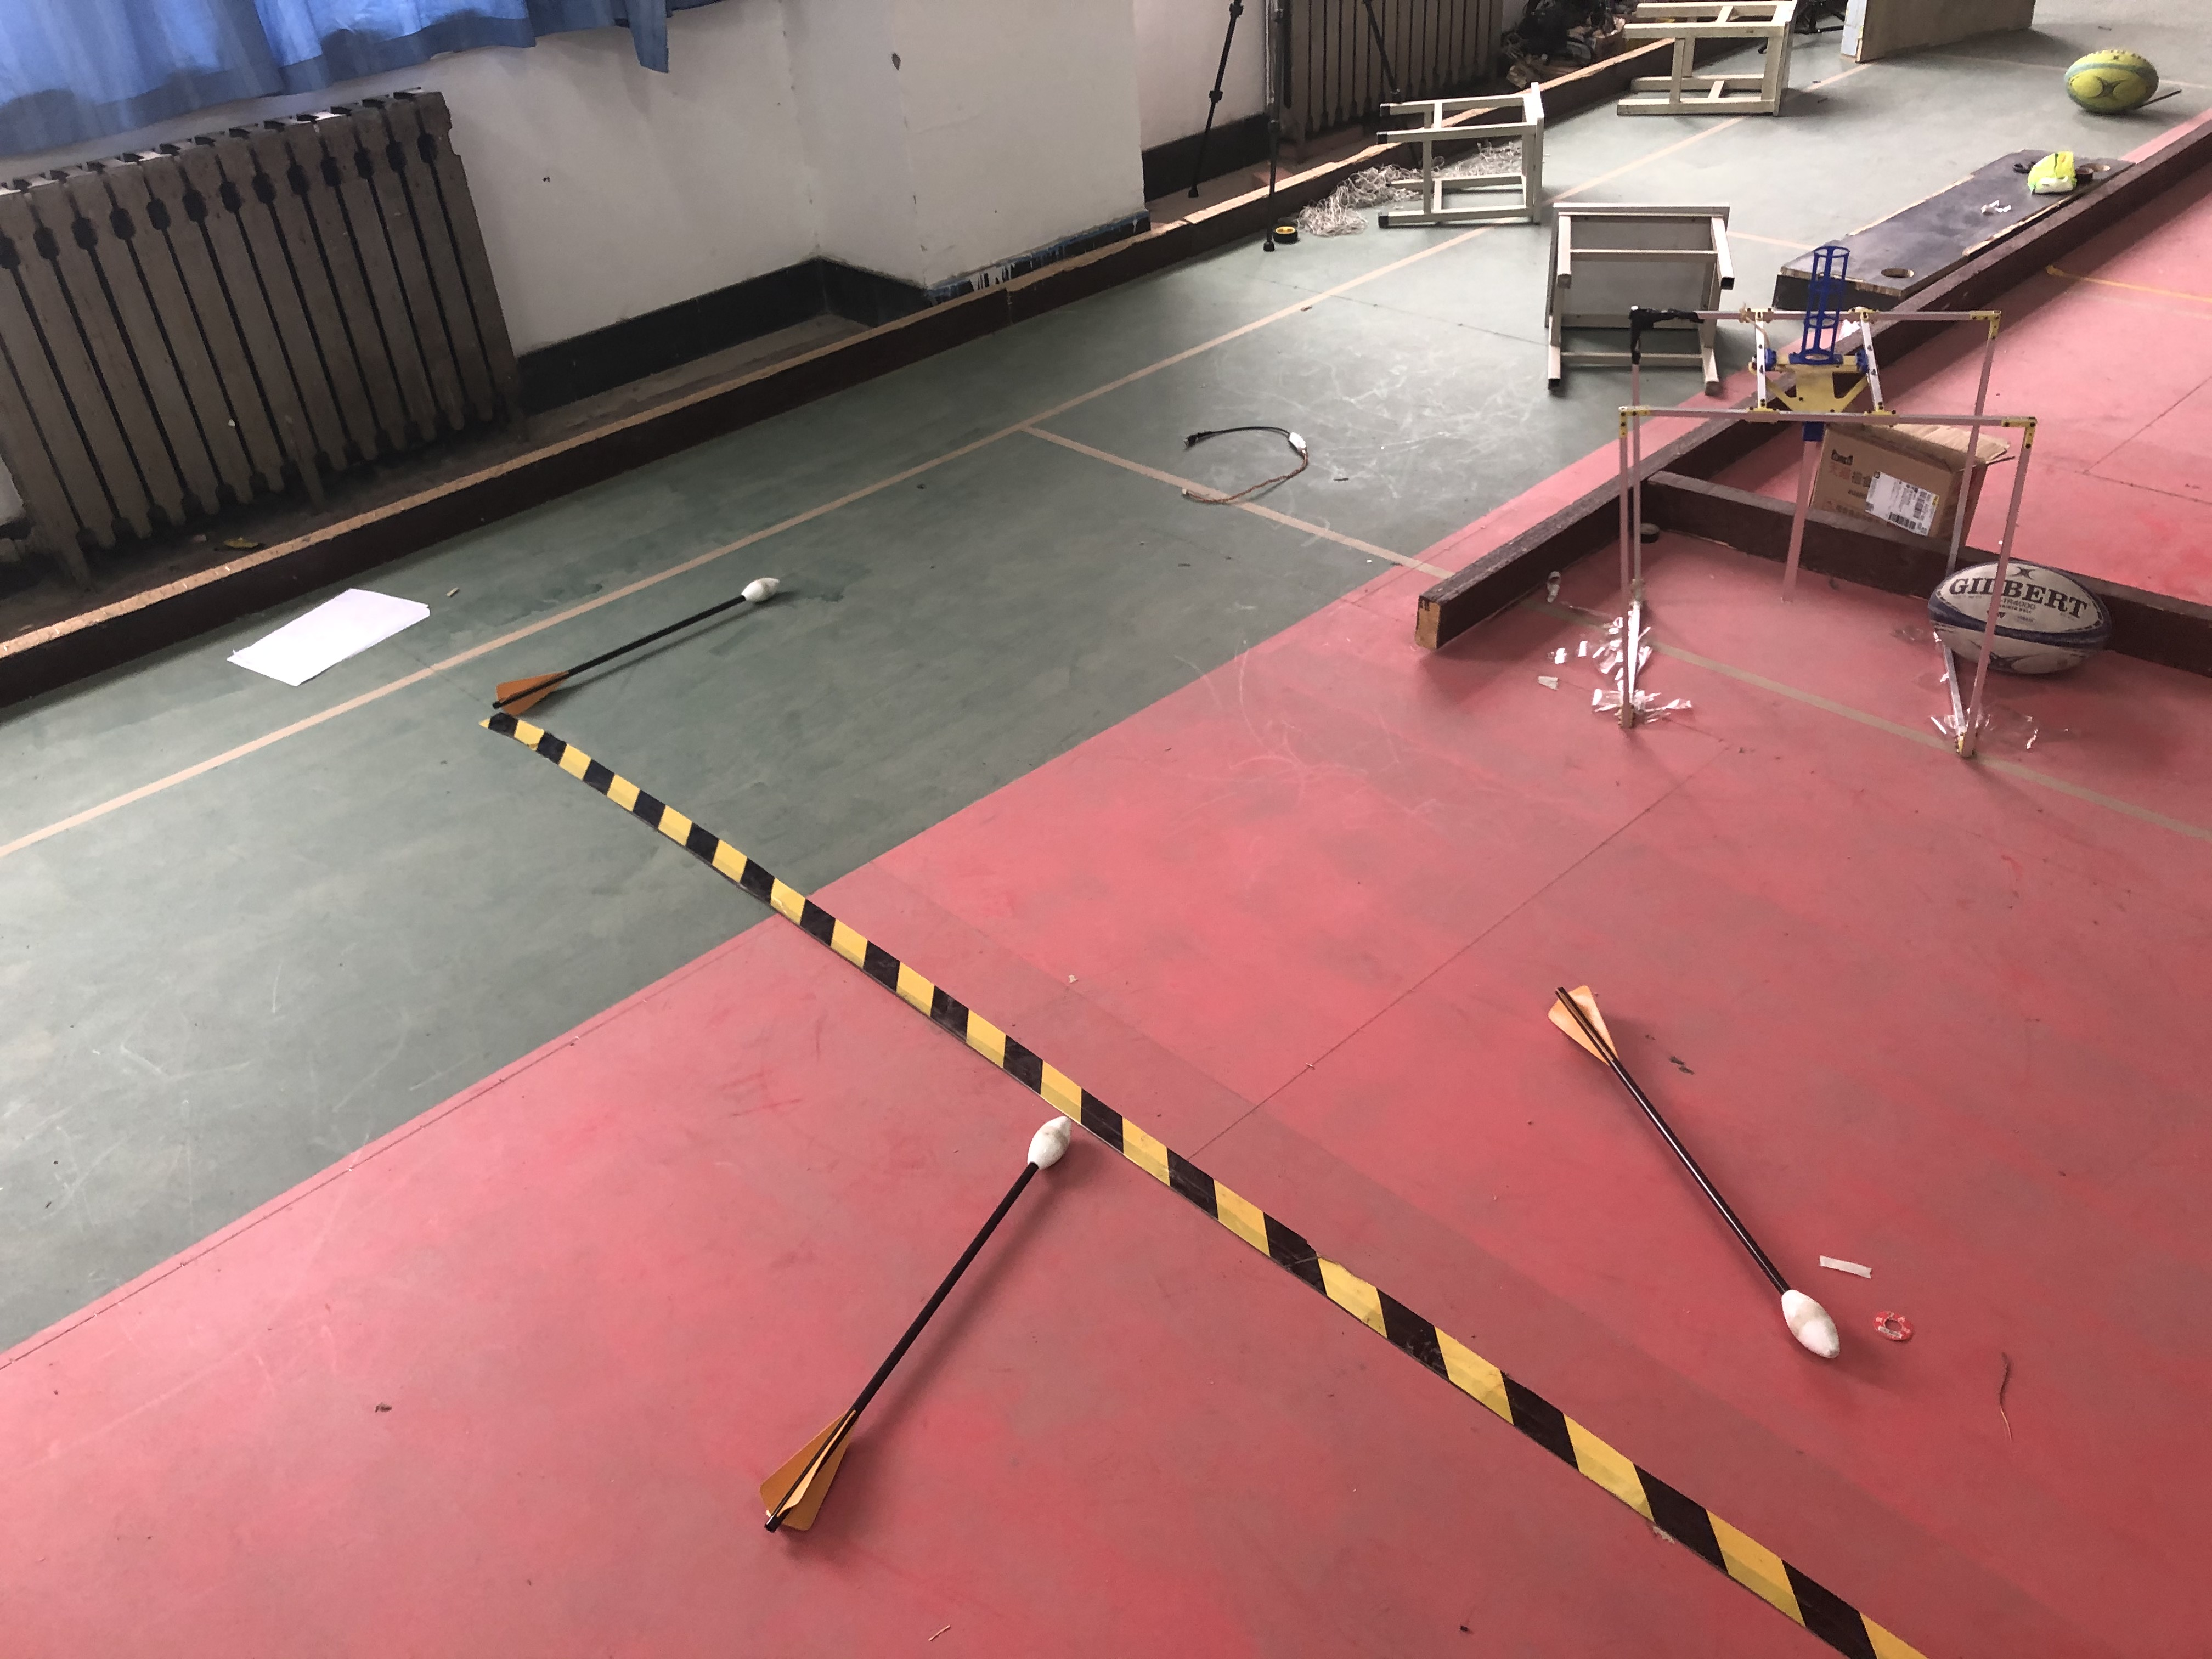arrow: (751, 1112, 1076, 1537), (1545, 972, 1838, 1358), (488, 579, 789, 714)
arrowFront: (1775, 1284, 1843, 1363), (1021, 1112, 1073, 1175), (738, 579, 789, 608)
